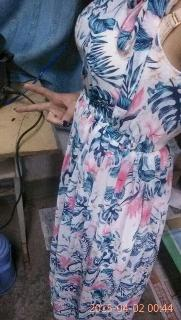sling: (49, 0, 181, 320)
